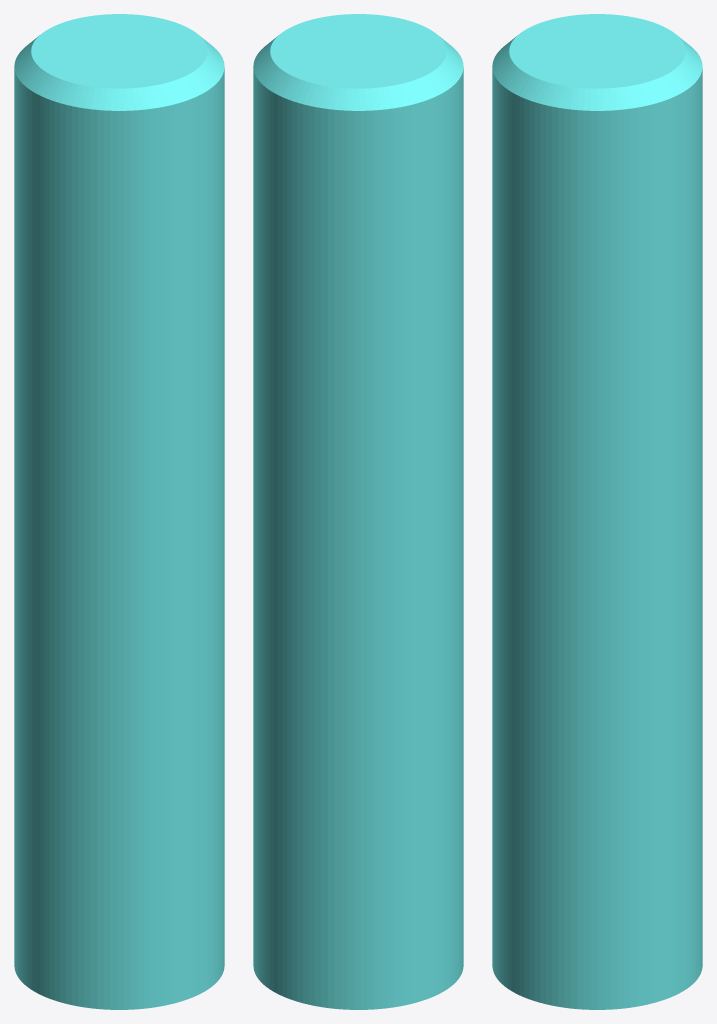
3 views of the same model, side by side, from view 1: azimuth 30°, elevation 25°; view 2: azimuth 150°, elevation 25°; view 3: azimuth 270°, elevation 25° (orthographic).
Visible parts, largest first — view 1: out; view 2: out; view 3: out.
Part boxes in pixels (x1,y1,x2,y2): out: (14,14,224,1009); out: (253,14,463,1009); out: (492,14,702,1009).
Bounding box in the file's own units: 0.005 × 0.024 × 0.005.
